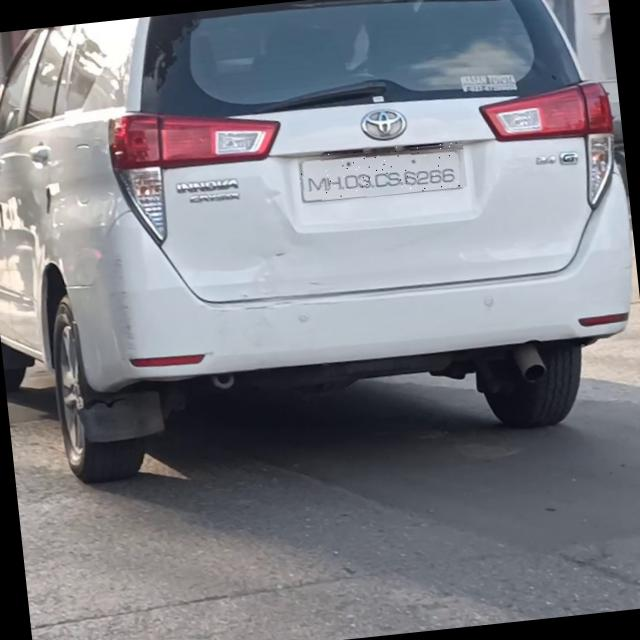Plate: (298, 140, 468, 204)
